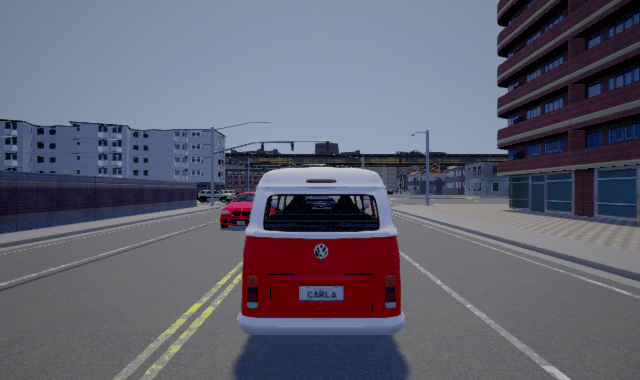vehicle: (244, 164, 405, 335), (219, 190, 255, 229), (197, 188, 234, 203)
